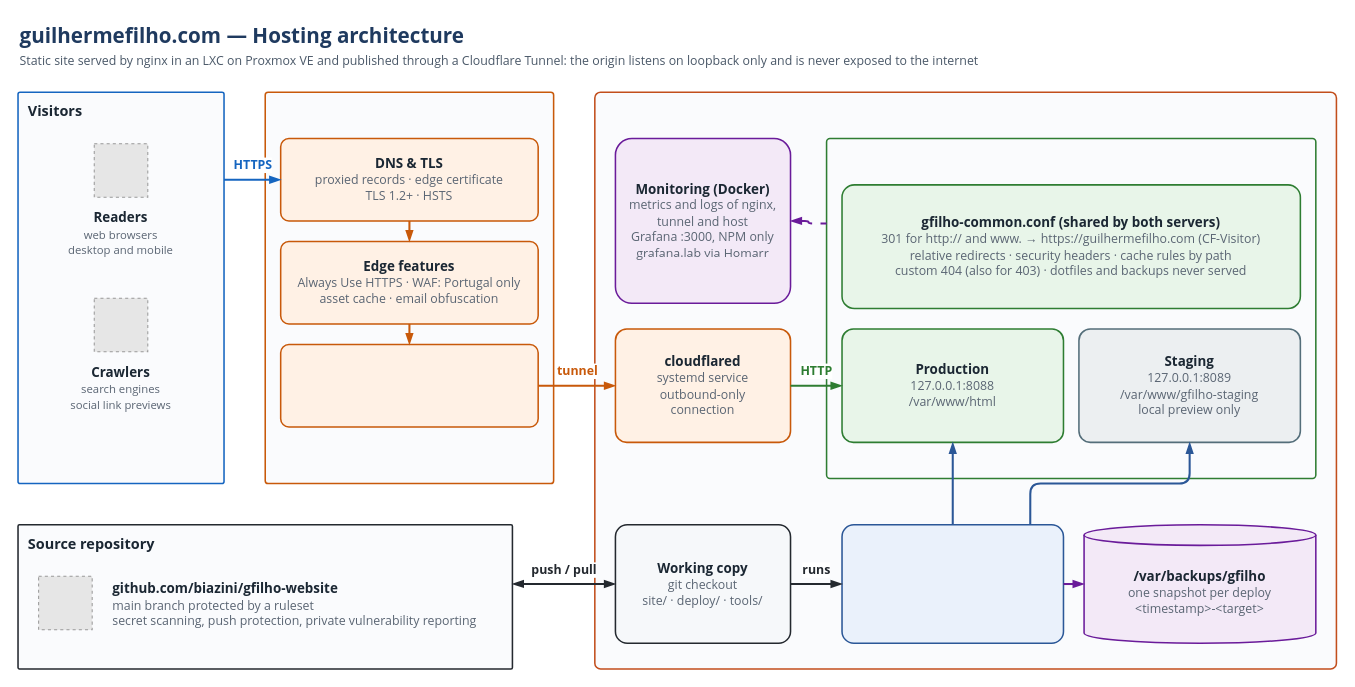
Image size: 1355x687. Some labels were removed from this diagram. Grey dashed boxes stand in for pictures. Each missing label, with the box of its shape:
Cloudflare (edge): (264, 91, 554, 484)
deploy/deploy.sh staging | production backup → sync → smoke test: (841, 524, 1064, 644)
nginx 1.26 · loopback only · stub_status :8090: (825, 137, 1316, 479)
Proxmox VE host · LXC 107 gfilho-web · Debian 13: (594, 91, 1337, 669)
Tunnel ingress guilhermefilho.com, www → localhost:8088 · other hosts → 404: (279, 343, 538, 427)
